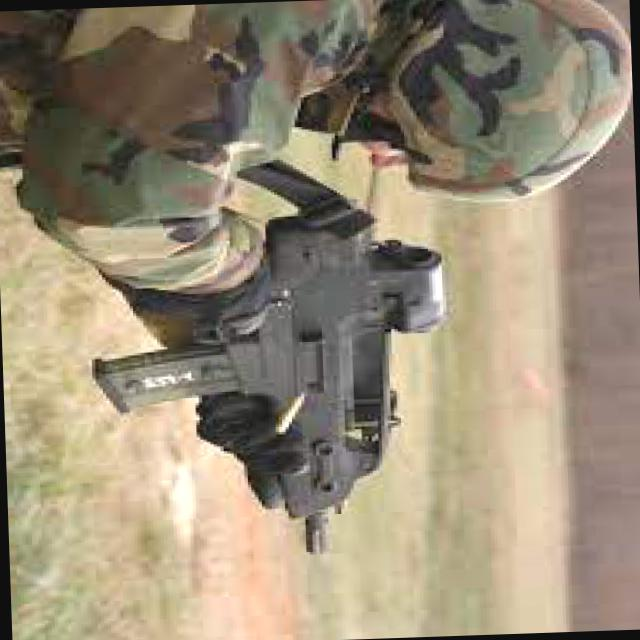long weapon: (120, 210, 467, 590)
